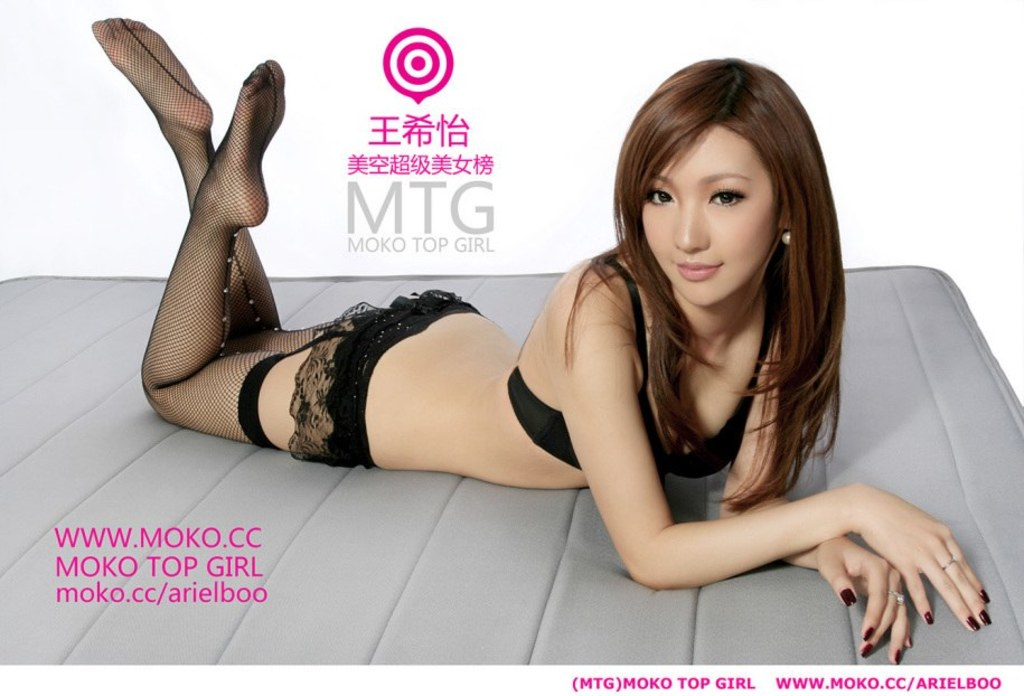Human_hand: (852, 481, 991, 625), (819, 536, 913, 664)
